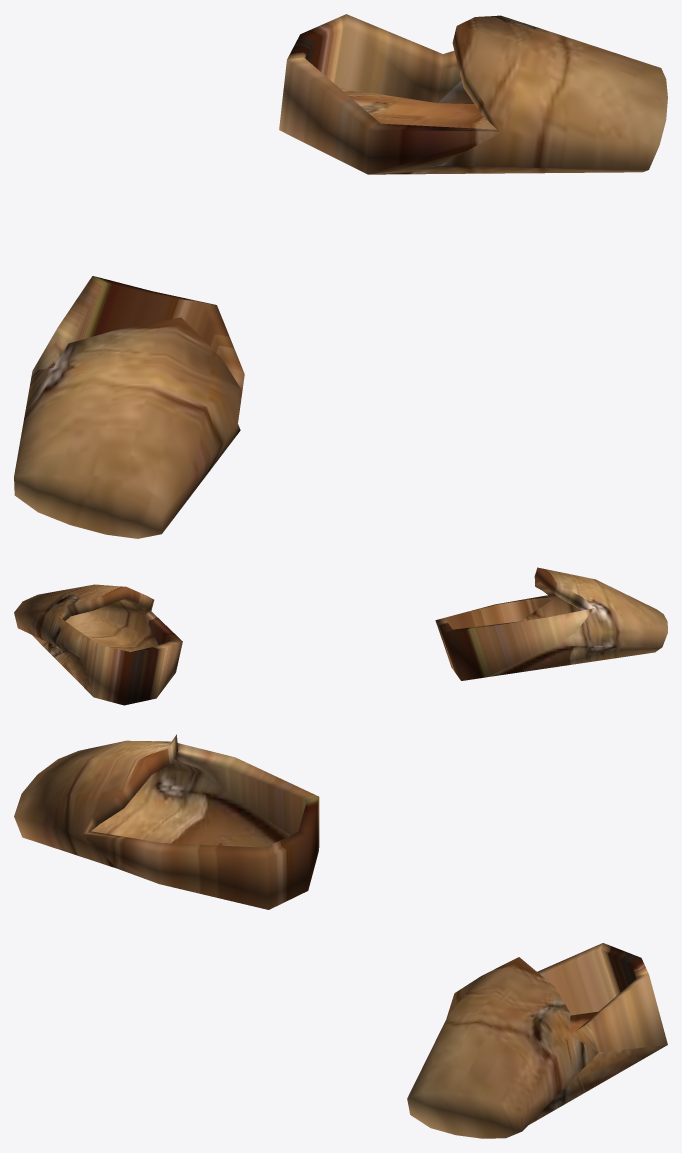
File: Shoes8.fbx
3 renders of one model, top to bottom at view 1: azimuth 30°, elevation 25°; view 2: azimuth 150°, elevation 25°; view 3: azimuth 270°, elevation 25°, orthographic. The views are drawn at different scales.
Visible parts, largest first — view 1: F.Shoes.003; view 2: F.Shoes.003; view 3: F.Shoes.003.
Part boxes in pixels (x1,y1,x2,y2): F.Shoes.003: (14, 14, 667, 538); F.Shoes.003: (14, 567, 667, 705); F.Shoes.003: (14, 734, 667, 1138).
Bounding box in the file's own units: 669 × 111 × 509.
